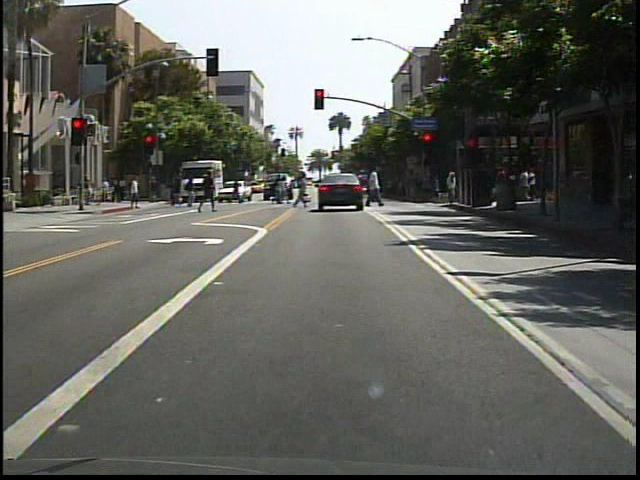person: (362, 163, 387, 212), (201, 168, 223, 217), (296, 173, 315, 211), (127, 174, 144, 213), (185, 174, 201, 211)
